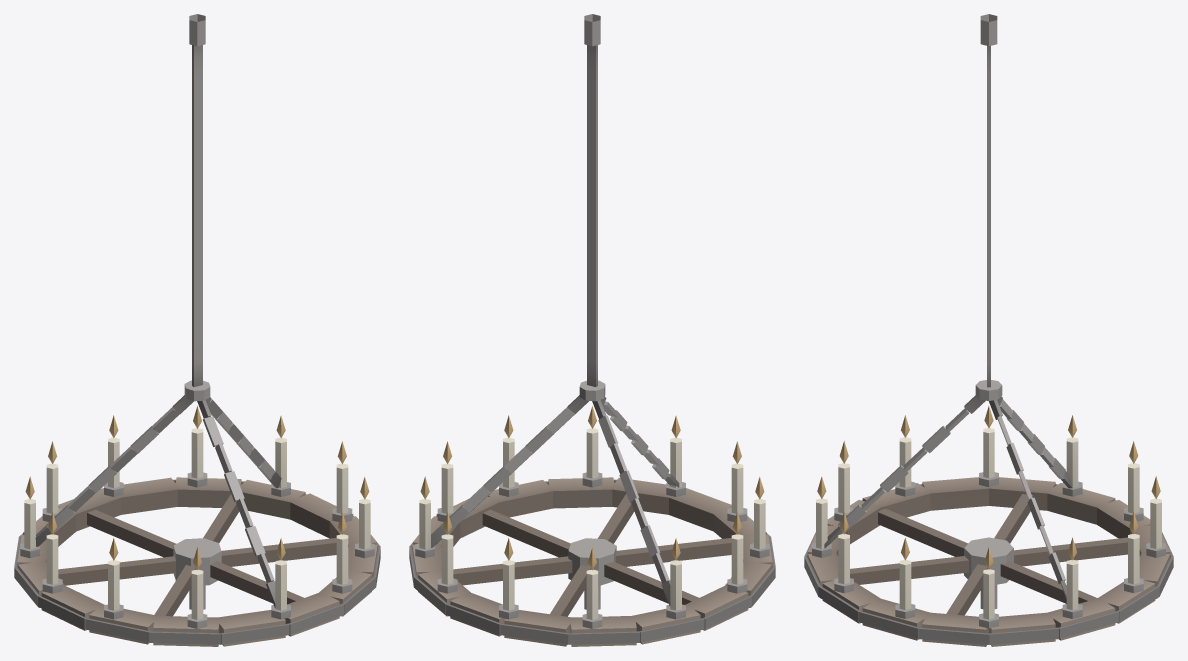
File: kit_chandelier.glb
The picture shows the model from 3 angles, left to right: view 1: azimuth 30°, elevation 25°; view 2: azimuth 150°, elevation 25°; view 3: azimuth 270°, elevation 25°; orthographic projection.
Visible parts, largest first — view 1: kit_chandelier; view 2: kit_chandelier; view 3: kit_chandelier.
Boxes of the visible parts, left/top/right/bottom form: kit_chandelier: left=14, top=14, right=380, bottom=646; kit_chandelier: left=409, top=14, right=775, bottom=646; kit_chandelier: left=804, top=14, right=1173, bottom=646.
Size of the model in its own units: 1.93 by 3.4 by 1.93.
